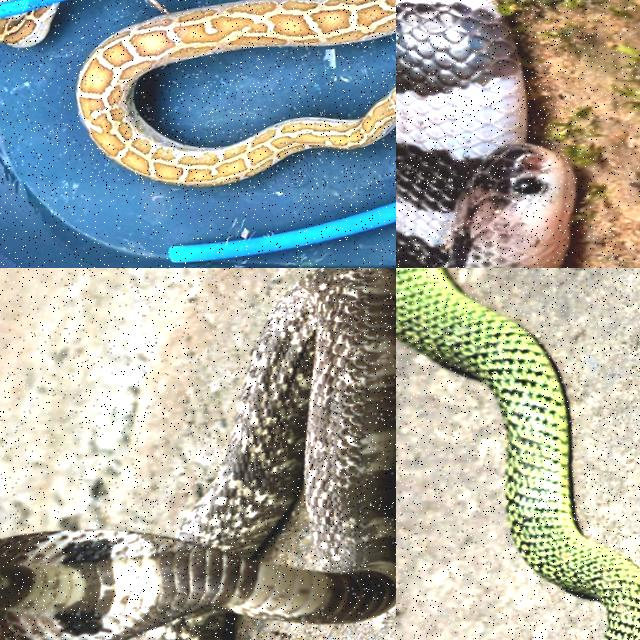Bungarus candidus: (396, 0, 574, 267)
Chrysopelea ornata: (396, 268, 639, 639)
Ophiophagus hannah: (0, 268, 395, 639)
Python bivittatus: (82, 0, 395, 186)
snake: (0, 268, 395, 639), (396, 268, 639, 639), (82, 0, 395, 186), (396, 0, 574, 267)
